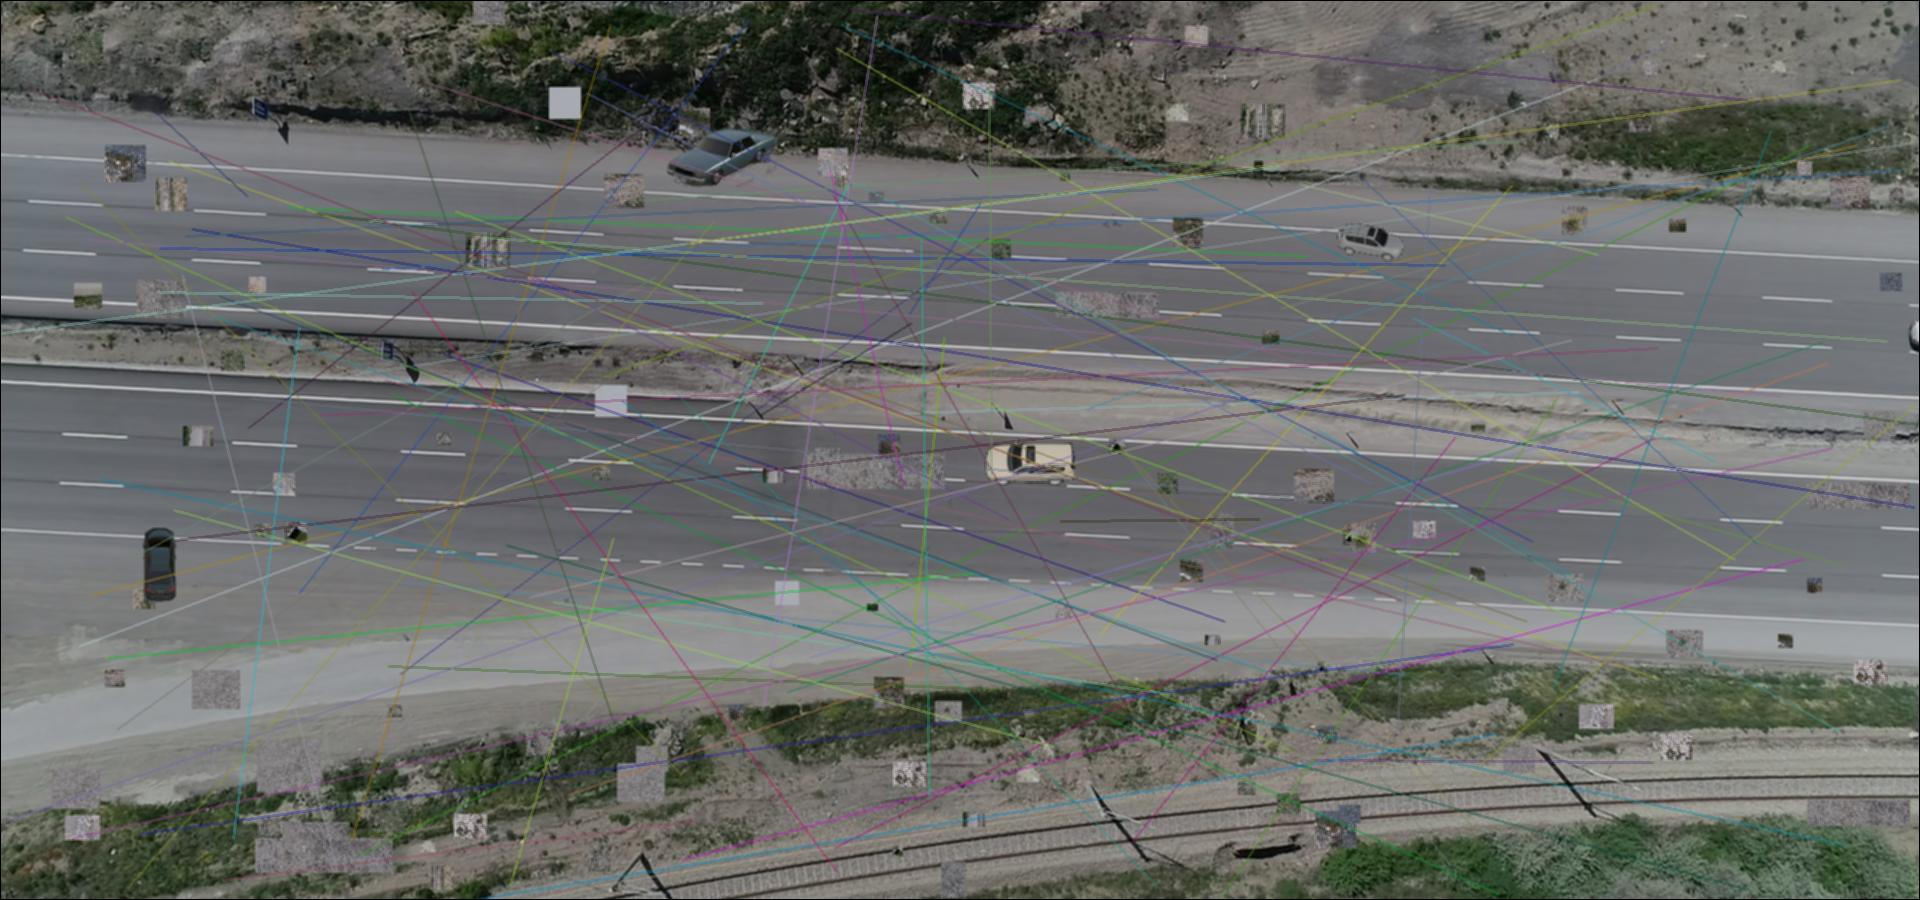arac: (667, 127, 778, 187), (980, 440, 1080, 485), (140, 528, 179, 602), (1335, 223, 1404, 262)
